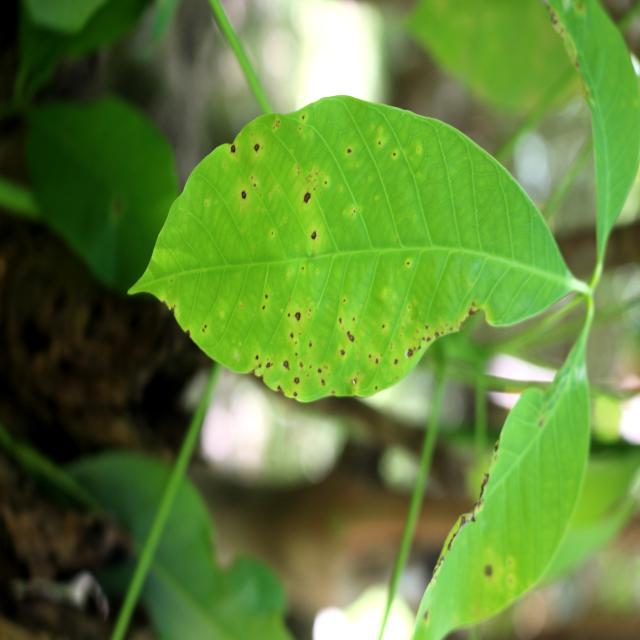Colletotrichum: (304, 193, 310, 203), (294, 312, 300, 321), (311, 231, 317, 239), (230, 144, 236, 152), (242, 191, 246, 199), (255, 144, 259, 151)
